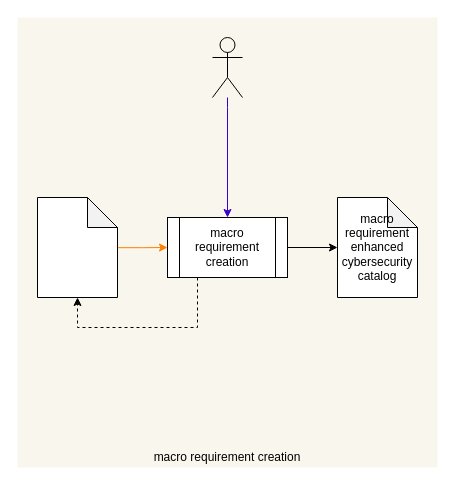
Image size: 454x484. Some labels were removed from this diagram. The shapes that lost their labels are listed below. From the top down, each one's centre as x and y in pixels, then its label:
(227,67): security SME
(77,247): cybersecurity requirements catalog
